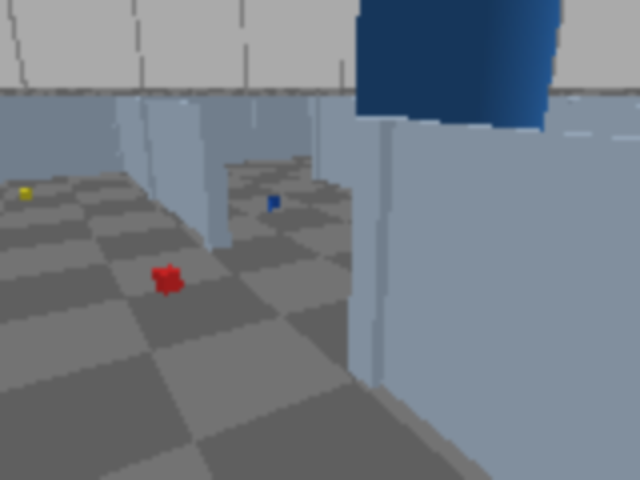person: (368, 0, 638, 301)
puck: (153, 265, 183, 295)
